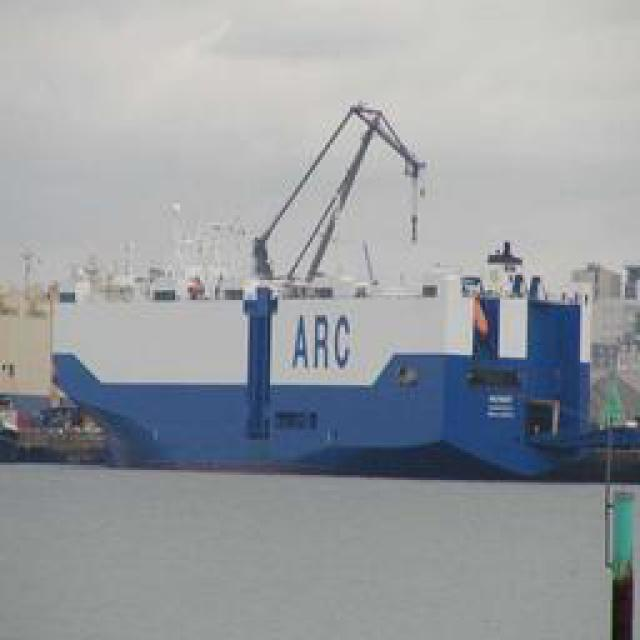Ship: (32, 102, 610, 485)
